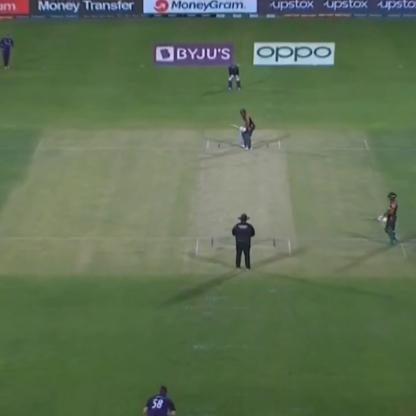bat: (352, 210, 382, 224), (221, 118, 244, 133)
pitch: (191, 136, 294, 266)
